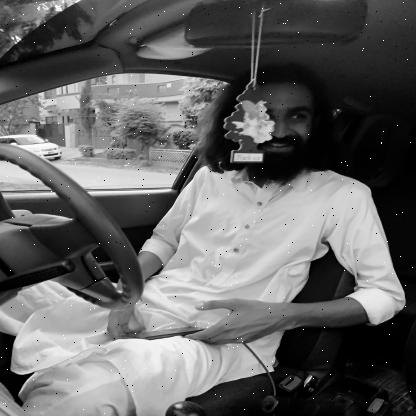no_seatbelt: (183, 59, 338, 293)
